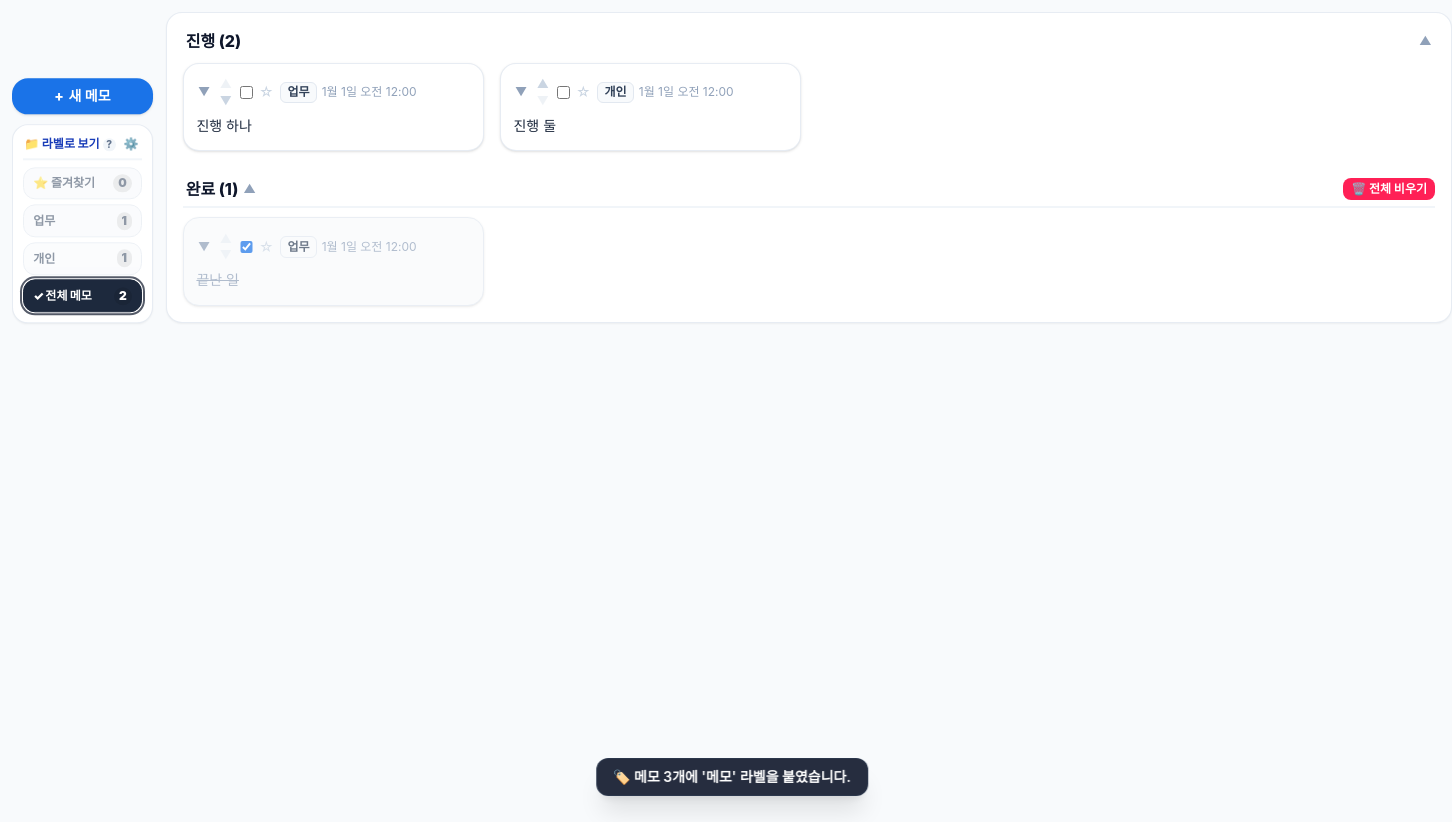
Test case: 메모 진행/완료 구역 › 진행과 완료를 따로 보여 주고 접을 수 있다
Expected: the text "진행 하나" is shown, [196,117,252,134]
Click the button "진행 (2) ▲".
click(205, 41)  # box [183,29,1435,53]
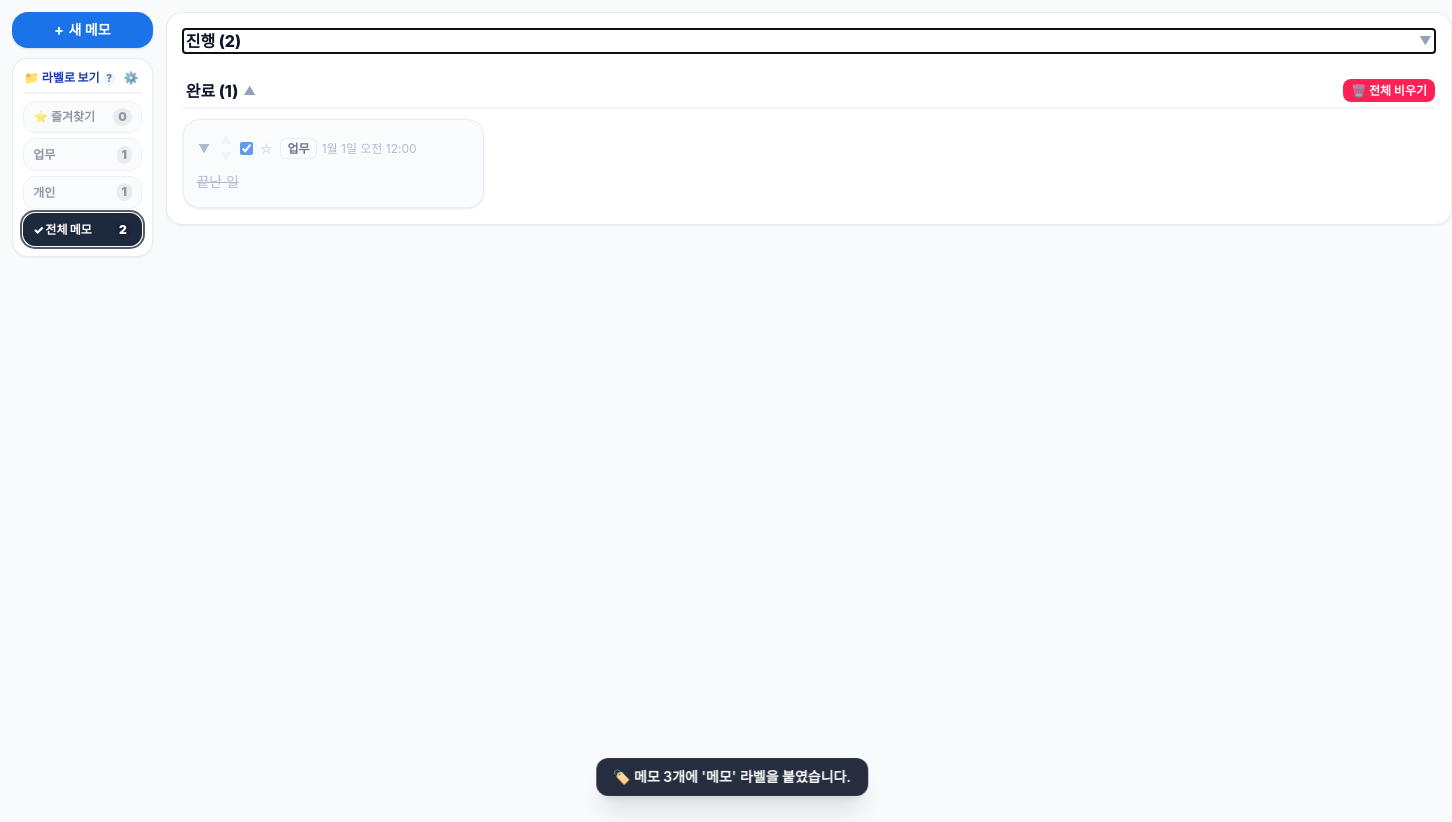
Expected: the text "끝난 일" is shown, [196,173,239,190]
Expected: the button "진행 (2) ▼" is collapsed, [183,29,1435,53]
Expected: the text "진행 하나" is gone
